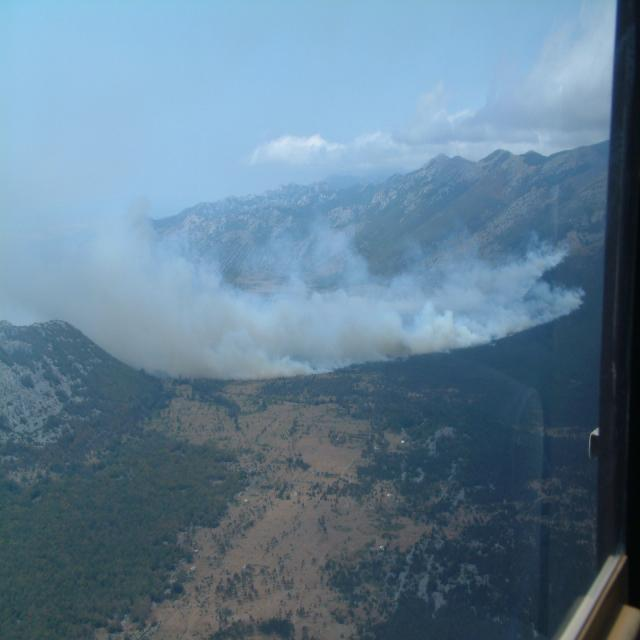Smoke: (0, 178, 586, 382)
